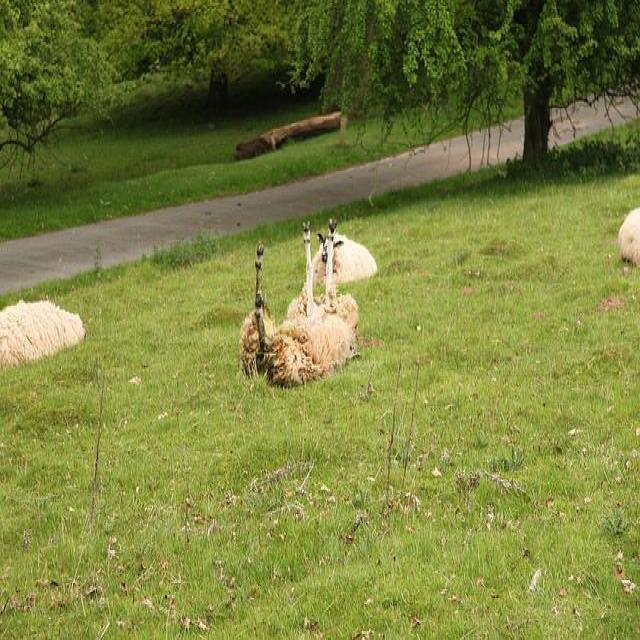Sheep: (240, 219, 359, 388), (0, 301, 86, 372), (313, 230, 379, 286)
